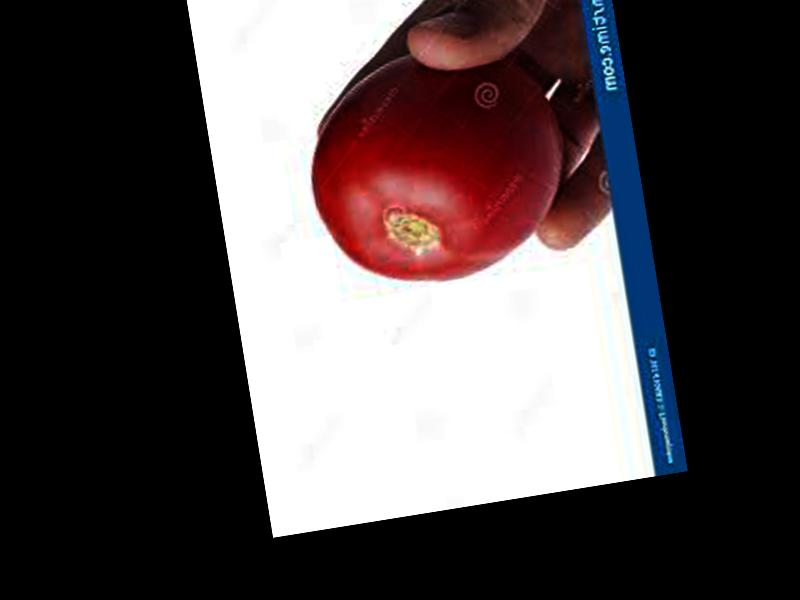Tomato: (294, 32, 579, 297)
